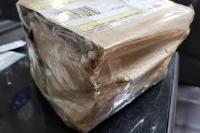undamaged: (14, 0, 191, 131)
